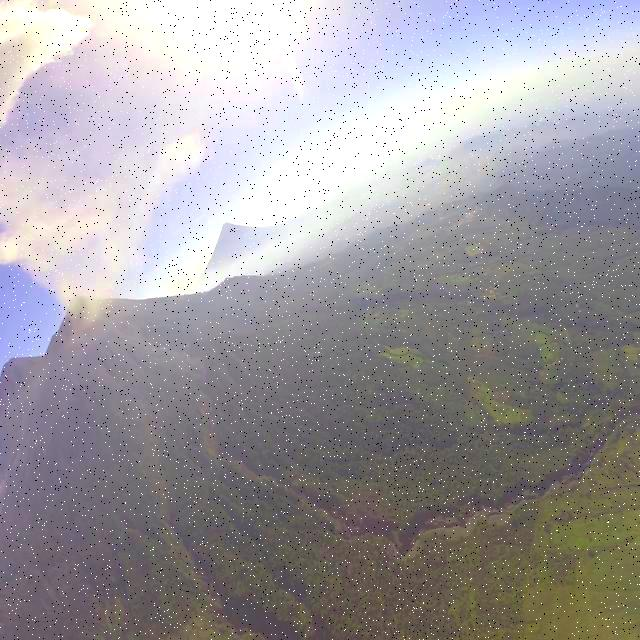Summit: (60, 290, 97, 320)
